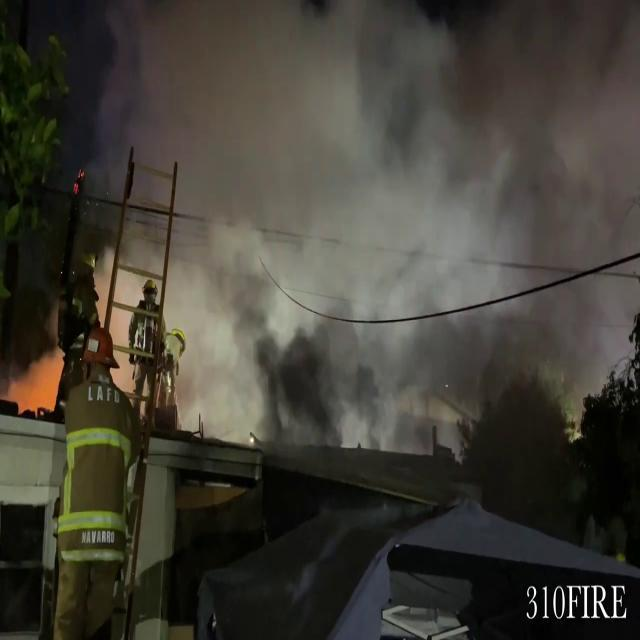Smoke: (70, 0, 640, 471)
